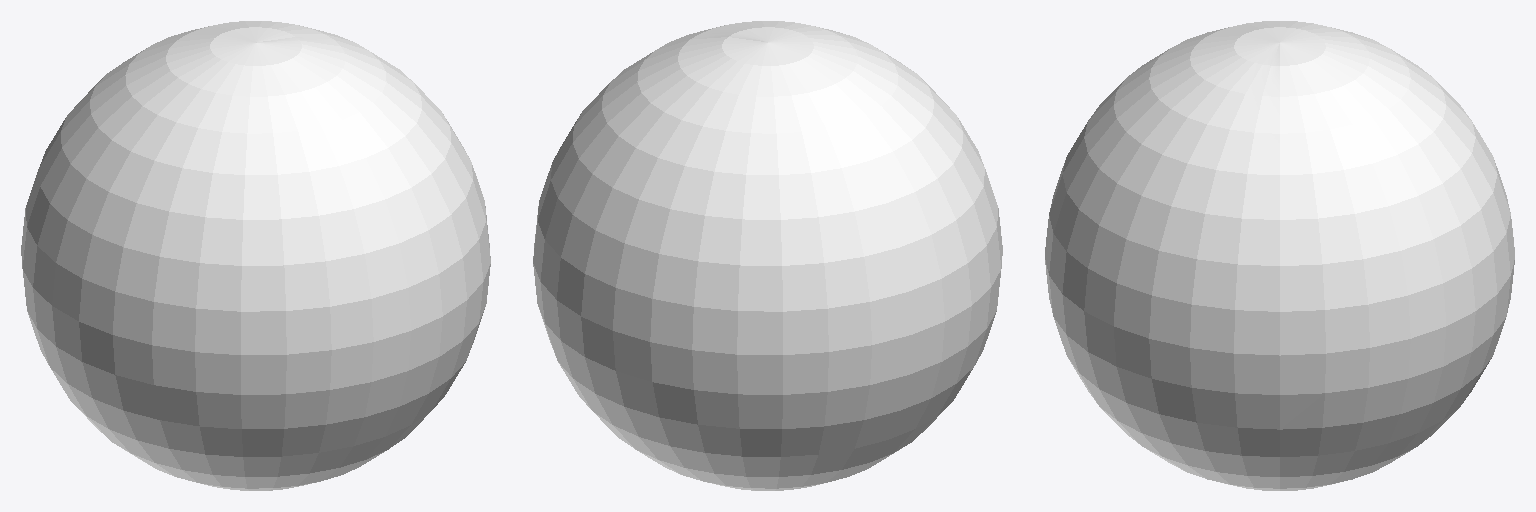
3 renders of one model, left to right at view 1: azimuth 30°, elevation 25°; view 2: azimuth 150°, elevation 25°; view 3: azimuth 270°, elevation 25°, orthographic.
Visible parts, largest first — view 1: 球; view 2: 球; view 3: 球.
Boxes of the visible parts, x1,y1,x2,y2 form: 球: [21, 21, 490, 490]; 球: [533, 21, 1002, 490]; 球: [1045, 21, 1514, 490].
Size of the model in its own units: 0.6 by 0.6 by 0.6.
1 materials, 1 textured.